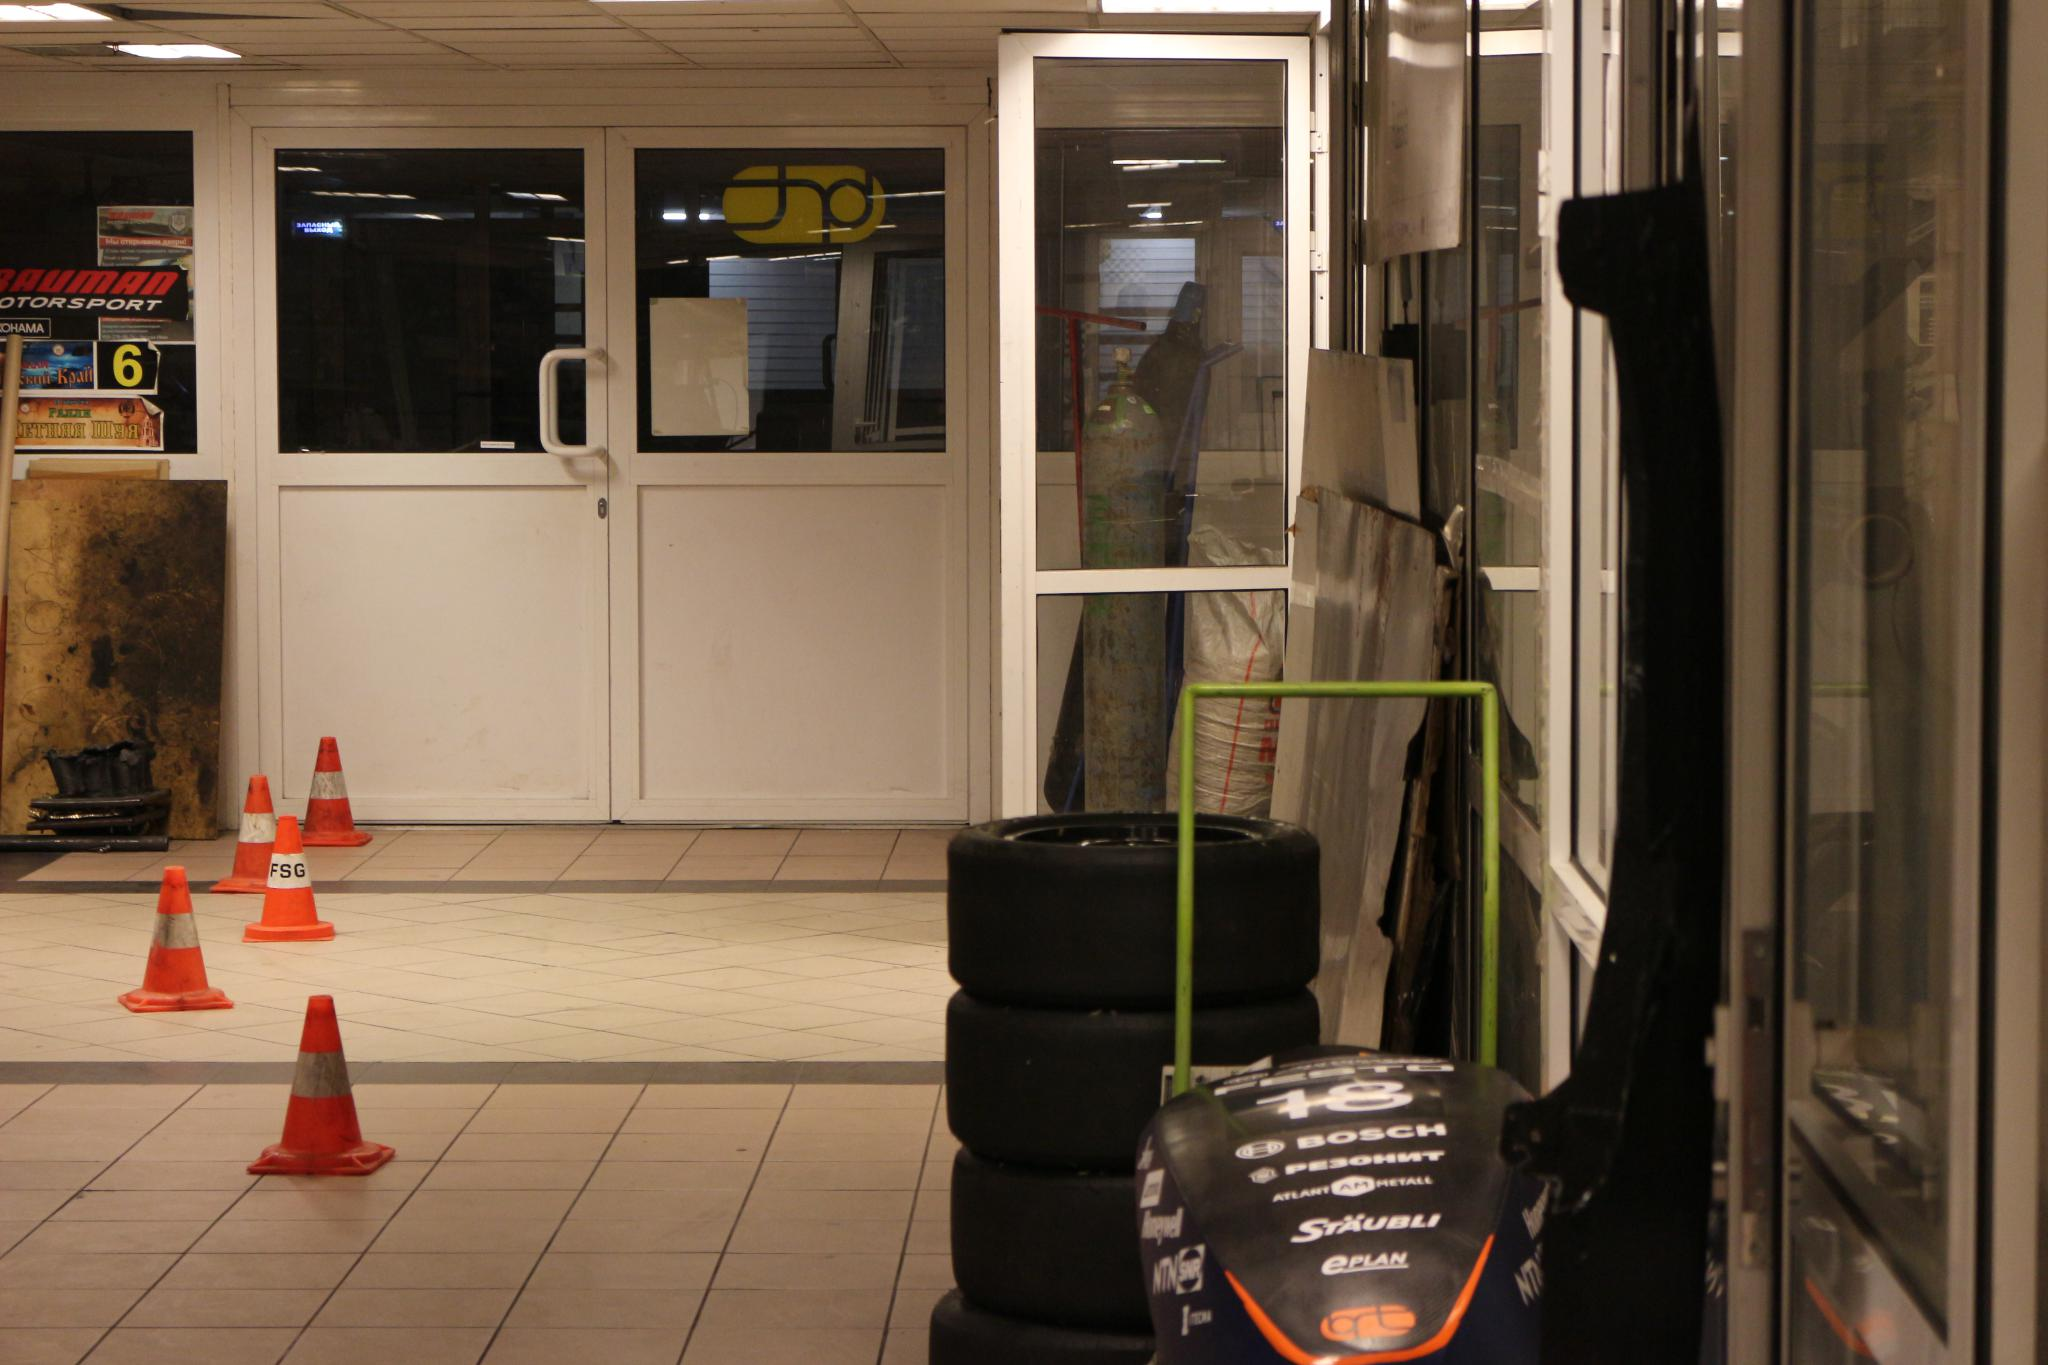Orange_Cone: (246, 990, 402, 1174), (122, 859, 230, 1013), (243, 813, 339, 941), (210, 770, 300, 891), (289, 732, 375, 848)
